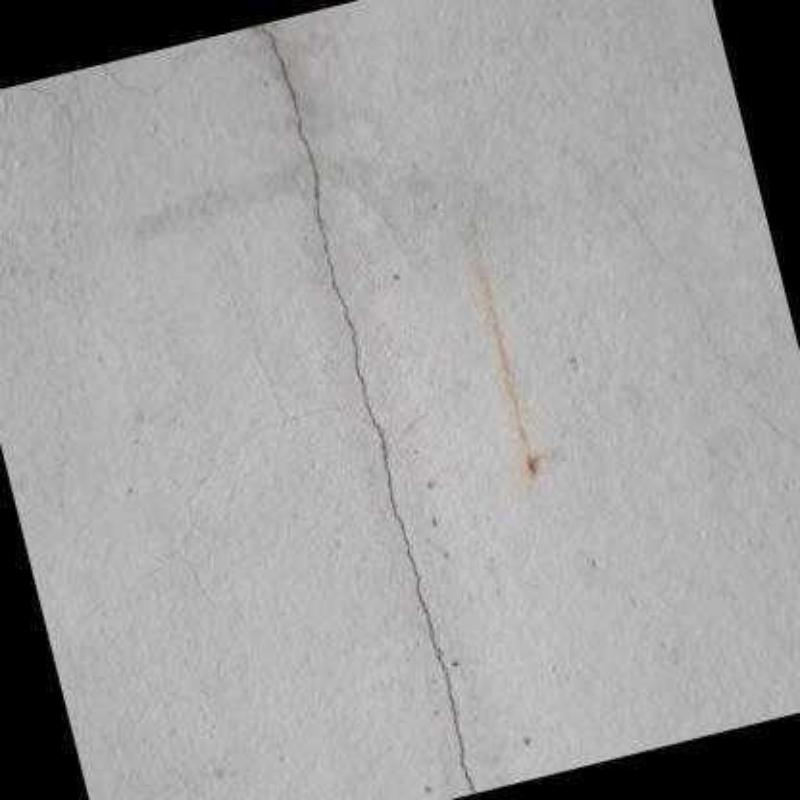pothole: (253, 21, 476, 795)
